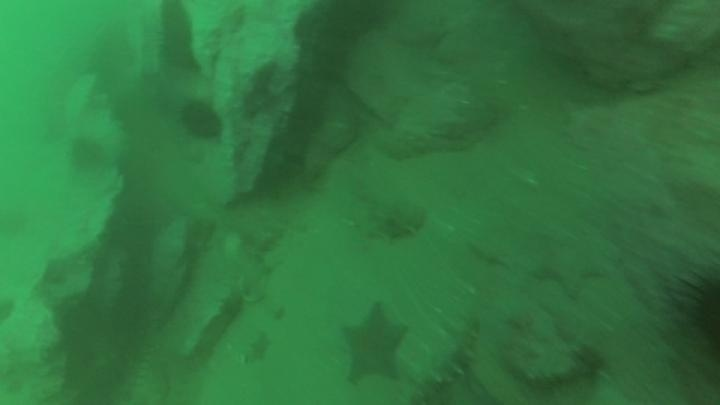echinus: (665, 263, 720, 358), (178, 98, 225, 144), (66, 134, 108, 175)
holothurian: (405, 312, 484, 402), (357, 197, 430, 245)
starfish: (336, 301, 411, 387), (528, 229, 621, 297)
